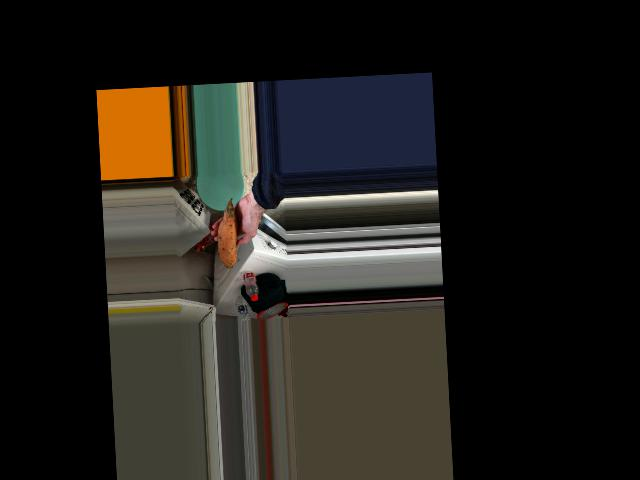sweet_potato: (215, 200, 240, 268)
